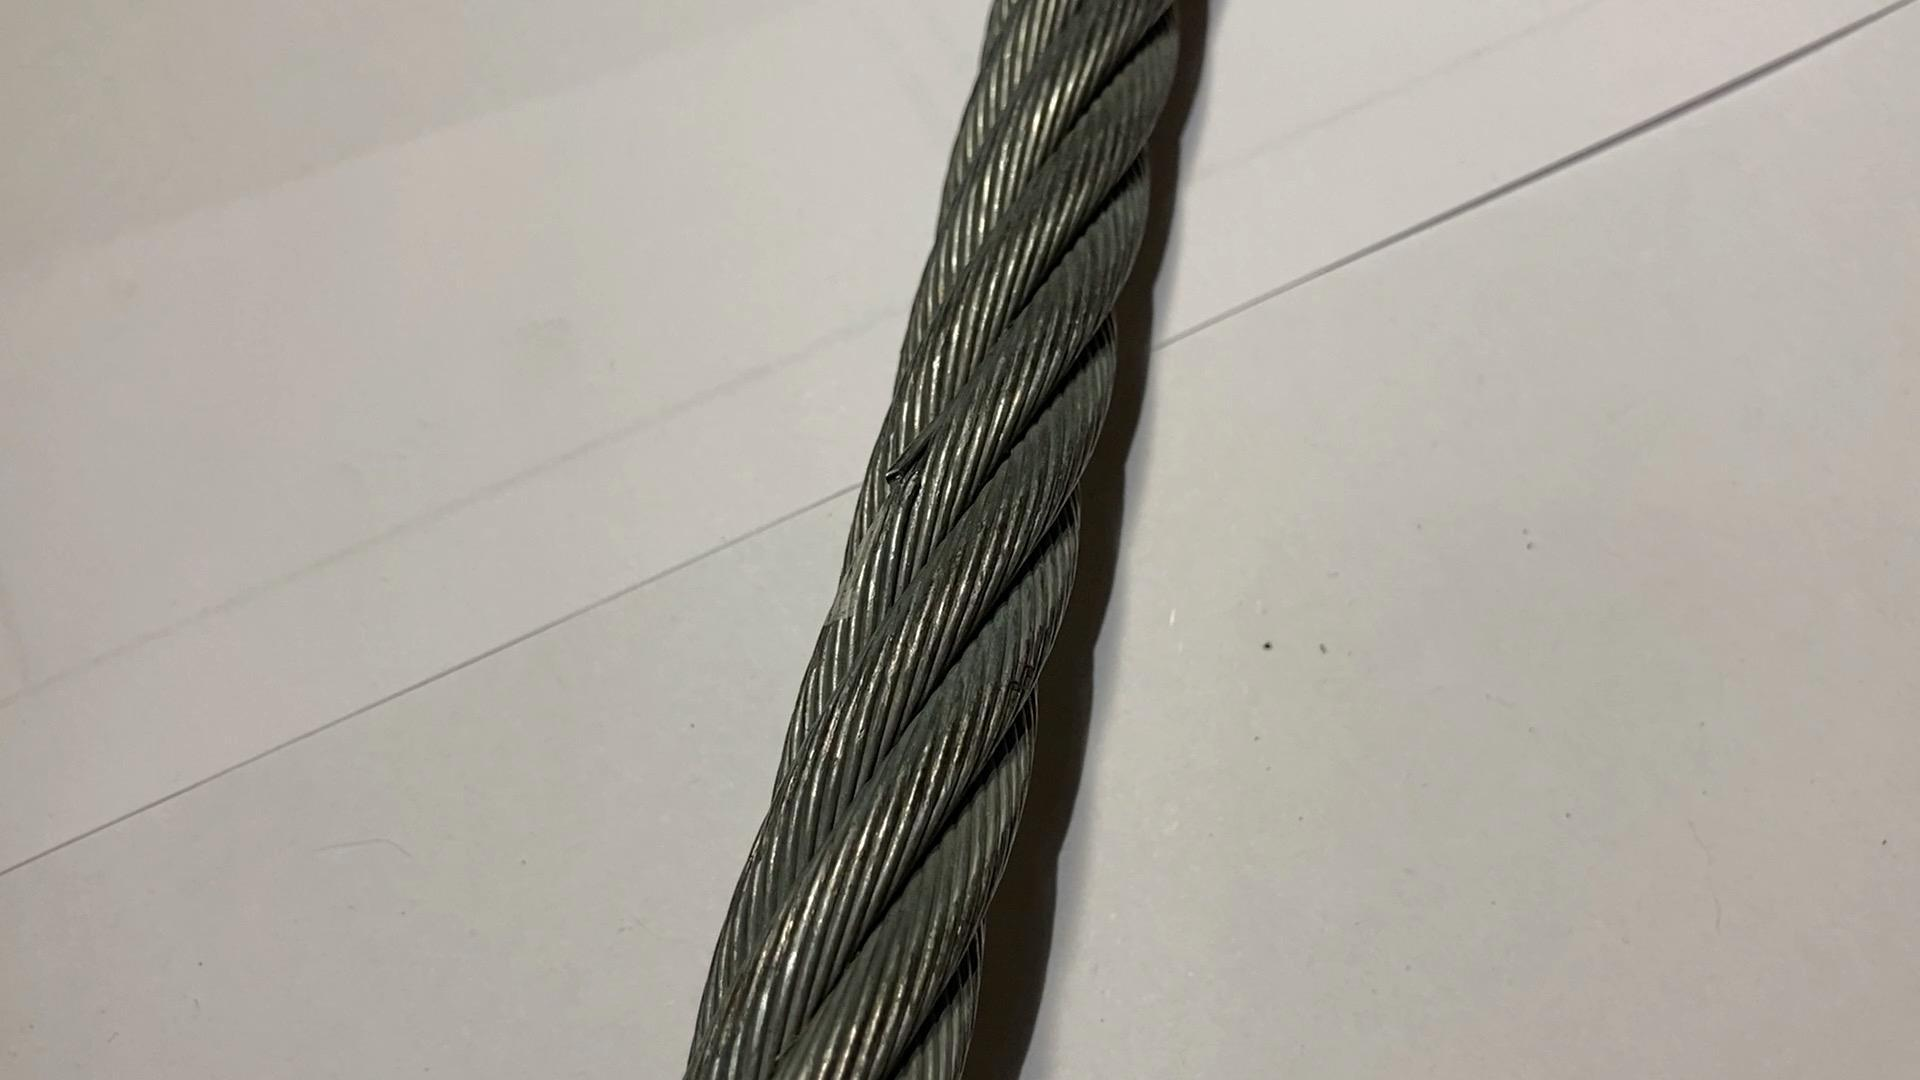break: (868, 413, 953, 517)
